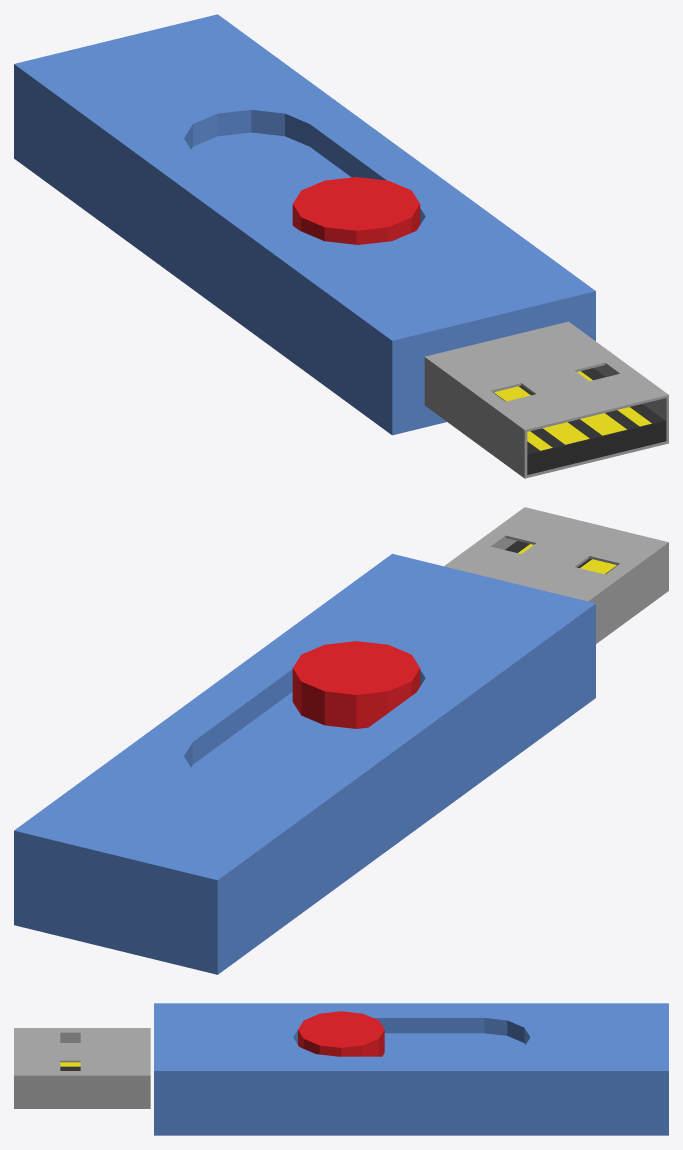
Rendered from Pendrive.fbx.
3 renders of one model, top to bottom at view 1: azimuth 30°, elevation 25°; view 2: azimuth 150°, elevation 25°; view 3: azimuth 270°, elevation 25°, orthographic. The views are drawn at different scales.
Visible parts, largest first — view 1: Pendrive; view 2: Pendrive; view 3: Pendrive.
Boxes of the visible parts, left/top/right/bottom form: Pendrive: left=14, top=14, right=668, bottom=478; Pendrive: left=14, top=507, right=668, bottom=974; Pendrive: left=14, top=1003, right=668, bottom=1135.
Size of the model in its own units: 3.53 by 1.75 by 14.44.
